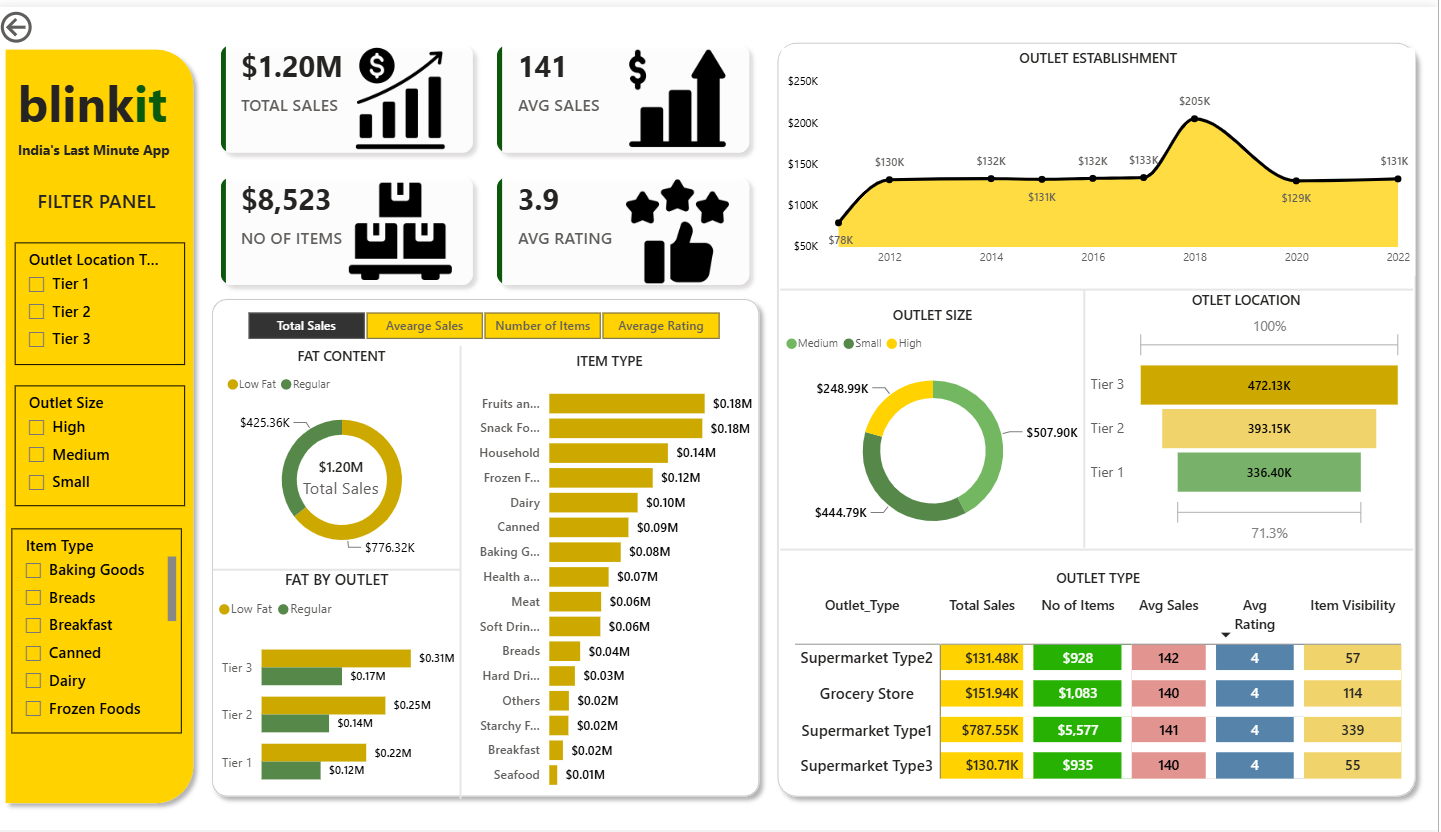

This screenshot's page, from the dashboard's own definition file:
{"tool":"powerbi","page":{"name":"Page 1","canvas":[1400,800],"ordinal":0},"visuals":[{"type":"shape","box":[0,32.1,200.8,750.2],"z":0},{"type":"textbox","box":[15.7,54.2,166.3,83.1],"z":1000},{"type":"textbox","box":[16.1,123.7,165.5,46.6],"z":2000},{"type":"actionButton","box":[0,0,100,40],"z":3000},{"type":"cardVisual","fields":{"Data":["BlinkIT Grocery Data.Total Sales","BlinkIT Grocery Data.Avearge Sales","BlinkIT Grocery Data.Number of Items","BlinkIT Grocery Data.Average Rating"]},"box":[200.8,19.3,549.4,269.9],"z":4000},{"type":"shape","box":[200.8,274.7,549.4,501.2],"z":5000},{"type":"donutChart","title":"FAT CONTENT","fields":{"Category":["BlinkIT Grocery Data.Item_Fat_Content"],"Y":["BlinkIT Grocery Data.Total Sales"]},"box":[219,329.1,232.9,215.2],"z":6000},{"type":"slicer","fields":{"Values":["Metrics.Metrics"]},"box":[219.3,289.2,507.2,39.8],"z":7000},{"type":"cardVisual","fields":{"Data":["BlinkIT Grocery Data.Total Sales"]},"box":[278.5,415.2,112.7,83.5],"z":8000},{"type":"clusteredBarChart","title":"FAT BY OUTLET","fields":{"Category":["BlinkIT Grocery Data.Outlet_Location_Type"],"Series":["BlinkIT Grocery Data.Item_Fat_Content"],"Y":["BlinkIT Grocery Data.Total Sales"]},"box":[210.4,546.2,241,229.7],"z":9000},{"type":"shape","box":[210.4,518.9,241,54.6],"z":10000},{"type":"shape","box":[419.3,328.9,62.7,439.8],"z":11000},{"type":"barChart","title":"ITEM TYPE","fields":{"Category":["BlinkIT Grocery Data.Item_Type"],"Y":["BlinkIT Grocery Data.Total Sales"]},"box":[451.4,334.1,287.6,435.3],"z":12000},{"type":"shape","box":[750.2,25.7,637.8,750.2],"z":13000},{"type":"lineChart","title":"OUTLET ESTABLISHMENT","fields":{"Category":["BlinkIT Grocery Data.Outlet_Establishment_Year"],"Y":["BlinkIT Grocery Data.Total Sales"]},"box":[762.6,39.5,615.2,221.1],"z":14000},{"type":"shape","box":[761.4,247,614.5,55.4],"z":15000},{"type":"donutChart","title":"OUTLET SIZE","fields":{"Category":["BlinkIT Grocery Data.Outlet_Size"],"Y":["BlinkIT Grocery Data.Total Sales"]},"box":[761.4,289.2,295.6,237.8],"z":16000},{"type":"shape","box":[1025.3,274.7,62.7,250.6],"z":17000},{"type":"shape","box":[761.4,504.8,614.5,43.4],"z":18000},{"type":"funnel","title":"OTLET LOCATION","fields":{"Category":["BlinkIT Grocery Data.Outlet_Location_Type"],"Y":["Sum(BlinkIT Grocery Data.Sales)"]},"box":[1057,274.7,313.3,250.6],"z":19000},{"type":"pivotTable","title":"OUTLET TYPE","fields":{"Rows":["BlinkIT Grocery Data.Outlet_Type"],"Values":["BlinkIT Grocery Data.Total Sales","BlinkIT Grocery Data.Number of Items","BlinkIT Grocery Data.Avearge Sales","BlinkIT Grocery Data.Average Rating","Sum(BlinkIT Grocery Data.Item_Visibility)"]},"box":[769.9,544.6,600,213.3],"z":20000},{"type":"slicer","fields":{"Values":["BlinkIT Grocery Data.Outlet_Location_Type"]},"box":[18.1,228.8,165.6,118.9],"z":21000},{"type":"slicer","fields":{"Values":["BlinkIT Grocery Data.Outlet_Size"]},"box":[18.1,367.3,165.6,117.4],"z":22000},{"type":"slicer","fields":{"Values":["BlinkIT Grocery Data.Item_Type"]},"box":[15.1,505.8,165.6,198.7],"z":23000},{"type":"textbox","box":[15.1,170.1,165.6,36.1],"z":24000}]}

Visuals, with their boxes in screenshot pixels (x1, y1, x2, y2), scaled from the page's 1400x800 canvas onto the 1441x832 screenshot:
shape: x1=0 y1=33 x2=207 y2=814
textbox: x1=16 y1=56 x2=187 y2=143
textbox: x1=17 y1=129 x2=187 y2=177
actionButton: x1=0 y1=0 x2=103 y2=42
cardVisual - BlinkIT Grocery Data.Total Sales x BlinkIT Grocery Data.Avearge Sales: x1=207 y1=20 x2=772 y2=301
shape: x1=207 y1=286 x2=772 y2=807
"FAT CONTENT" donutChart: x1=225 y1=342 x2=465 y2=566
slicer - Metrics.Metrics: x1=226 y1=301 x2=748 y2=342
cardVisual - BlinkIT Grocery Data.Total Sales: x1=287 y1=432 x2=403 y2=519
"FAT BY OUTLET" clusteredBarChart: x1=217 y1=568 x2=465 y2=807
shape: x1=217 y1=540 x2=465 y2=596
shape: x1=432 y1=342 x2=496 y2=799
"ITEM TYPE" barChart: x1=465 y1=347 x2=761 y2=800
shape: x1=772 y1=27 x2=1429 y2=807
"OUTLET ESTABLISHMENT" lineChart: x1=785 y1=41 x2=1418 y2=271
shape: x1=784 y1=257 x2=1416 y2=314
"OUTLET SIZE" donutChart: x1=784 y1=301 x2=1088 y2=548
shape: x1=1055 y1=286 x2=1120 y2=546
shape: x1=784 y1=525 x2=1416 y2=570
"OTLET LOCATION" funnel: x1=1088 y1=286 x2=1410 y2=546
"OUTLET TYPE" pivotTable: x1=792 y1=566 x2=1410 y2=788
slicer - BlinkIT Grocery Data.Outlet_Location_Type: x1=19 y1=238 x2=189 y2=362
slicer - BlinkIT Grocery Data.Outlet_Size: x1=19 y1=382 x2=189 y2=504
slicer - BlinkIT Grocery Data.Item_Type: x1=16 y1=526 x2=186 y2=733
textbox: x1=16 y1=177 x2=186 y2=214
